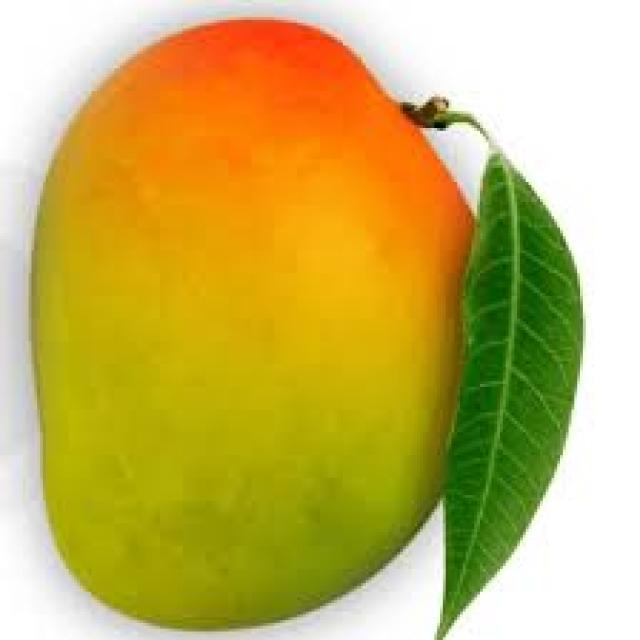Mango: (45, 30, 456, 619)
